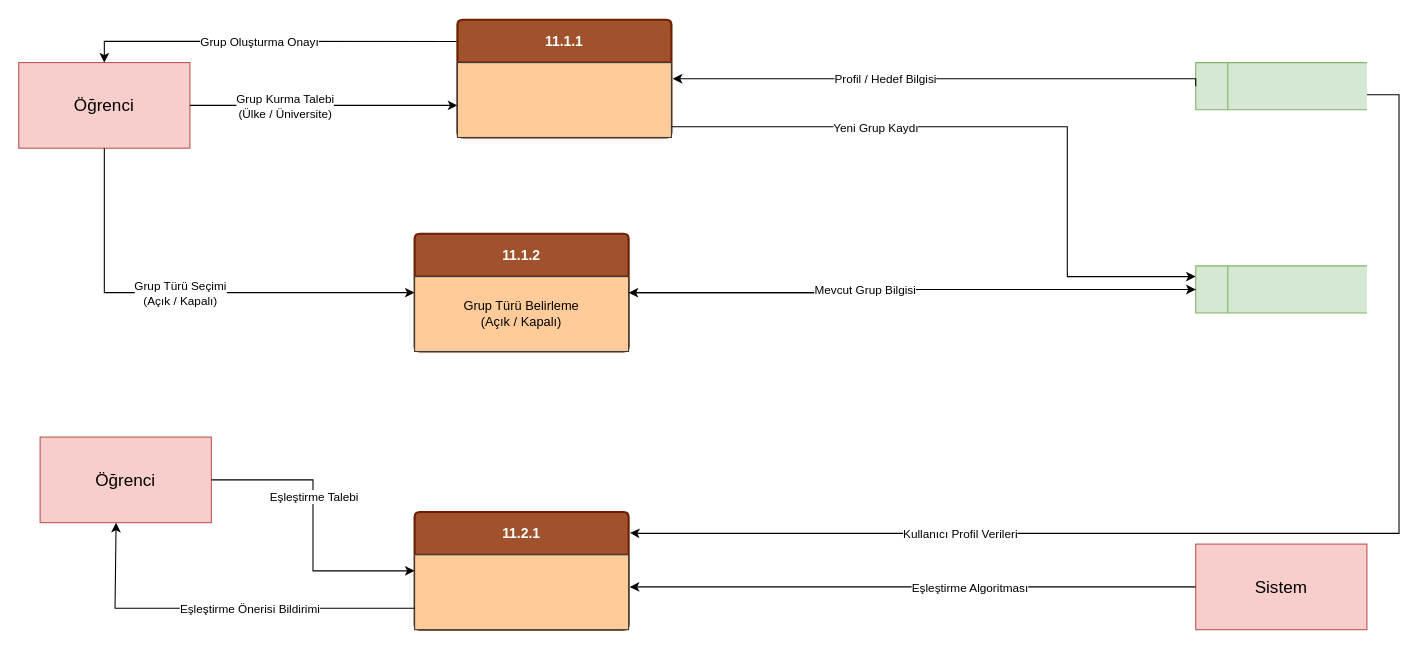
Image size: 1426x648. Some labels were removed from this diagram. Each missing label, with the centre of its shape:
"Benzer Profil Eşleştirme Önerisi" belongs at (521,592).
"D1 Kullanıcılar" belongs at (1281,86).
"D9 Gruplar" belongs at (1281,289).
"Ülke / Üniversiteye Göre Grup Kurma" belongs at (563,99).
